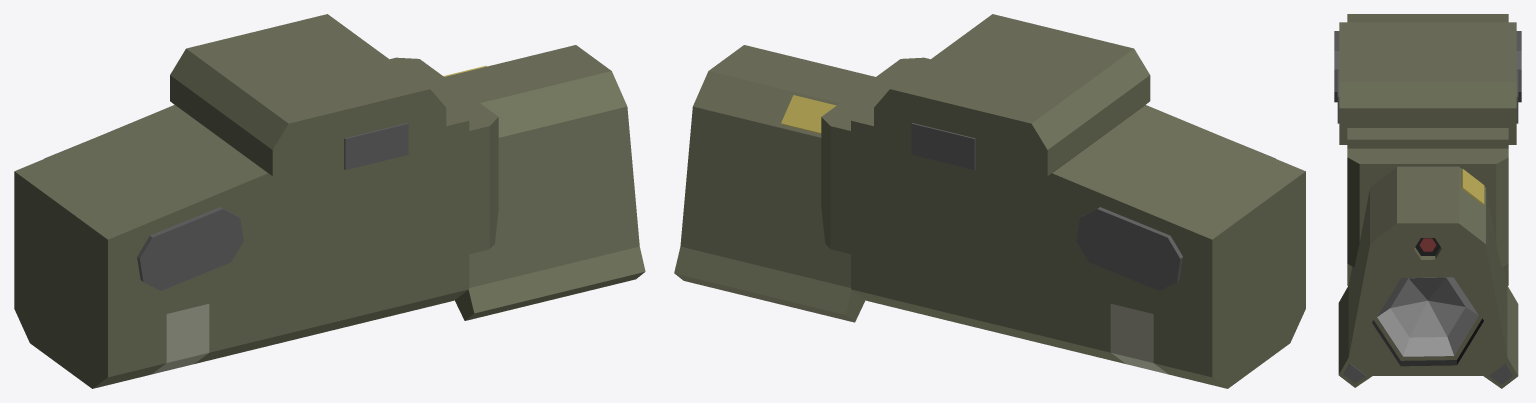
The model's file is lamp_laser_b.fbx.
3 views of the same model, side by side, from view 1: azimuth 30°, elevation 25°; view 2: azimuth 150°, elevation 25°; view 3: azimuth 270°, elevation 25° (orthographic). The views are drawn at different scales.
Parts seen in each view (by area): view 1: lamp_laser_b; view 2: lamp_laser_b; view 3: lamp_laser_b.
Boxes of the visible parts, box(x1,y1,x2,y2) form: lamp_laser_b: box(14, 14, 645, 388); lamp_laser_b: box(674, 14, 1305, 388); lamp_laser_b: box(1334, 14, 1521, 388).
Bounding box in the file's own units: 8.41 × 3.77 × 2.95.
Materials: 1 (1 with a texture image).
